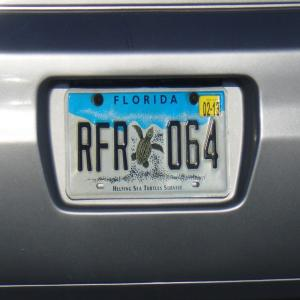Vehicle-registration-plate: (64, 88, 233, 201)
